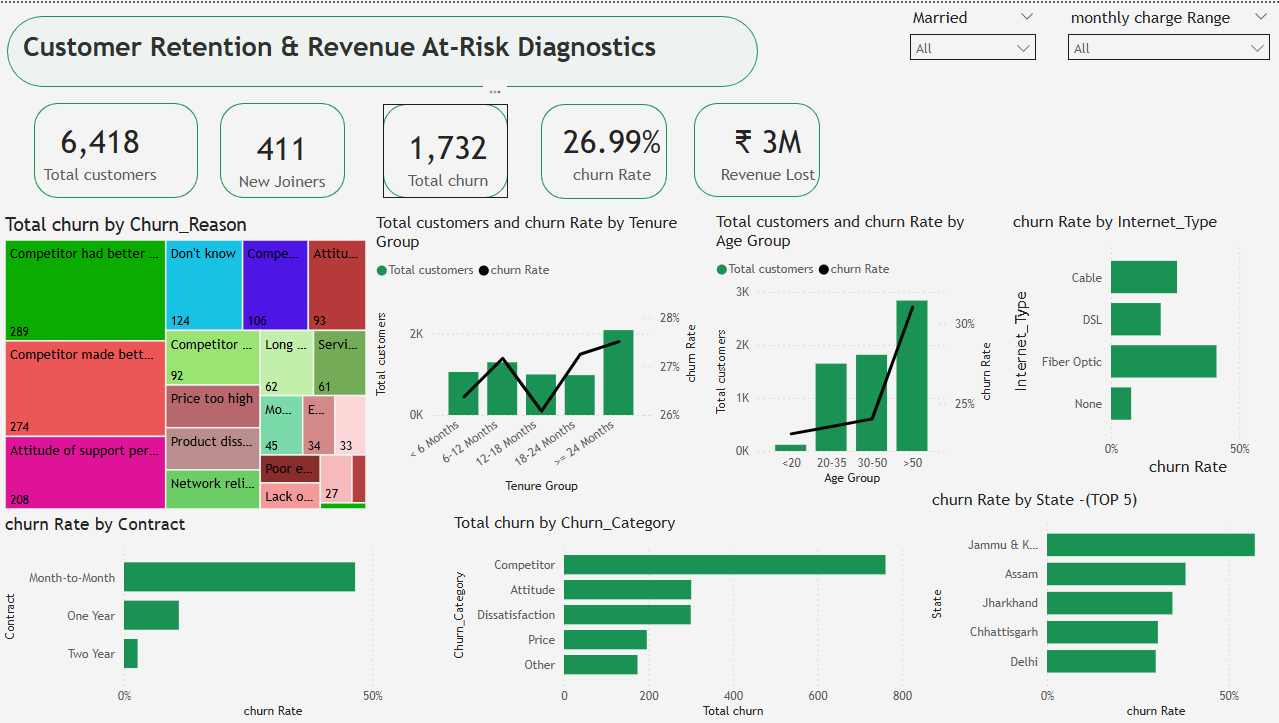

This screenshot's page, from the dashboard's own definition file:
{"tool":"powerbi","page":{"name":"Summary","canvas":[1280,720],"ordinal":0},"visuals":[{"type":"card","fields":{"Values":["tbl_measures.Total customers"]},"box":[27.2,105.2,146,83.4],"z":0},{"type":"card","fields":{"Values":["tbl_measures.New Joiners"]},"box":[218.5,114.3,127,80.7],"z":1000},{"type":"card","fields":{"Values":["tbl_measures.Total churn"]},"box":[385.4,111.5,126,83.4],"z":2000},{"type":"card","fields":{"Values":["tbl_measures.churn Rate"]},"box":[532.3,106.1,159.6,82.5],"z":3000},{"type":"lineStackedColumnComboChart","fields":{"Category":["Mapping_AgeGrp.Age Group"],"Y":["tbl_measures.Total customers"],"Y2":["tbl_measures.churn Rate"]},"box":[710.9,209.5,288.4,277.5],"z":5000},{"type":"clusteredBarChart","fields":{"Category":["prod_Churn.Contract"],"Y":["tbl_measures.churn Rate"]},"box":[0,511,437,209],"z":6000},{"type":"lineStackedColumnComboChart","fields":{"Category":["mapping_TenuregRP.Tenure Group"],"Y":["tbl_measures.Total customers"],"Y2":["tbl_measures.churn Rate"]},"box":[371.4,209.9,332.3,285],"z":7000},{"type":"clusteredBarChart","title":"churn Rate by State -(TOP 5)","fields":{"Category":["prod_Churn.State"],"Y":["tbl_measures.churn Rate"]},"box":[926.5,487.3,353.5,232.6],"z":8000},{"type":"clusteredBarChart","fields":{"Category":["prod_Churn.Churn_Category"],"Y":["tbl_measures.Total churn"]},"box":[449,510,468,210],"z":9000},{"type":"clusteredBarChart","fields":{"Category":["prod_Churn.Internet_Type"],"Y":["tbl_measures.churn Rate"]},"box":[1008.4,209.5,272,268.4],"z":10000},{"type":"slicer","fields":{"Values":["prod_Churn.monthly charge status"]},"box":[1058.2,0,221.8,67.3],"z":11000},{"type":"slicer","fields":{"Values":["prod_Churn.Married"]},"box":[900,0,146.4,70.9],"z":12000},{"type":"card","fields":{"Values":["tbl_measures.Revenue Lost"]},"box":[703.7,106.1,127.9,82.5],"z":13000},{"type":"textbox","box":[18.5,23.1,802,60.9],"z":14000},{"type":"shape","box":[7.4,12.9,750.3,71.1],"z":15000},{"type":"shape","box":[33.6,99.7,164.1,95.2],"z":16000},{"type":"shape","box":[541.4,100.7,126,95.2],"z":17000},{"type":"shape","box":[382.7,100.7,125.1,94.3],"z":18000},{"type":"shape","box":[693.7,99.7,126,94.3],"z":19000},{"type":"shape","box":[220.4,99.7,125.1,95.2],"z":20000},{"type":"treemap","fields":{"Group":["prod_Churn.Churn_Reason"],"Values":["tbl_measures.Total churn"]},"box":[0,209.9,371.4,301.5],"z":20001}]}

Visuals, with their boxes in screenshot pixels (x1, y1, x2, y2), scaled from the page's 1280x720 canvas onto the 1279x723 screenshot:
card - tbl_measures.Total customers: crop(27, 106, 173, 189)
card - tbl_measures.New Joiners: crop(218, 115, 345, 196)
card - tbl_measures.Total churn: crop(385, 112, 511, 196)
card - tbl_measures.churn Rate: crop(532, 107, 691, 189)
lineStackedColumnComboChart - Mapping_AgeGrp.Age Group x tbl_measures.Total customers: crop(710, 210, 999, 489)
clusteredBarChart - prod_Churn.Contract x tbl_measures.churn Rate: crop(0, 513, 437, 722)
lineStackedColumnComboChart - mapping_TenuregRP.Tenure Group x tbl_measures.Total customers: crop(371, 211, 703, 497)
"churn Rate by State -(TOP 5)" clusteredBarChart: crop(926, 489, 1278, 722)
clusteredBarChart - prod_Churn.Churn_Category x tbl_measures.Total churn: crop(449, 512, 916, 722)
clusteredBarChart - prod_Churn.Internet_Type x tbl_measures.churn Rate: crop(1008, 210, 1278, 480)
slicer - prod_Churn.monthly charge status: crop(1057, 0, 1278, 68)
slicer - prod_Churn.Married: crop(899, 0, 1046, 71)
card - tbl_measures.Revenue Lost: crop(703, 107, 831, 189)
textbox: crop(18, 23, 820, 84)
shape: crop(7, 13, 757, 84)
shape: crop(34, 100, 198, 196)
shape: crop(541, 101, 667, 197)
shape: crop(382, 101, 507, 196)
shape: crop(693, 100, 819, 195)
shape: crop(220, 100, 345, 196)
treemap - prod_Churn.Churn_Reason x tbl_measures.Total churn: crop(0, 211, 371, 514)
